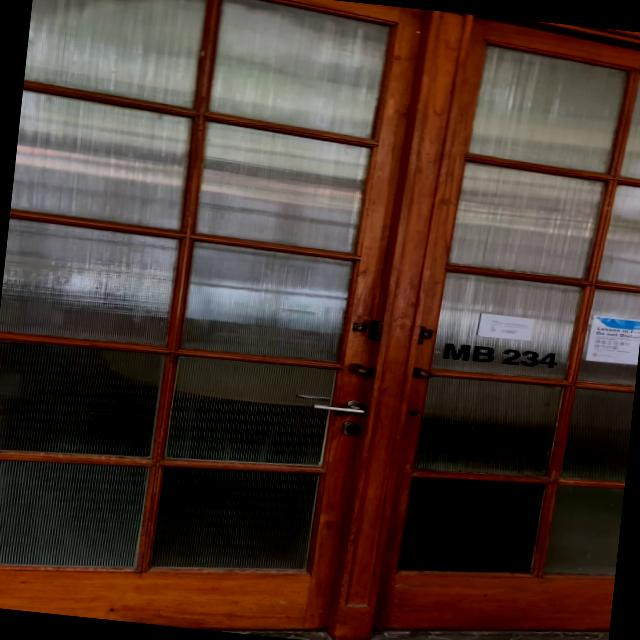room234Window: (435, 337, 560, 372)
